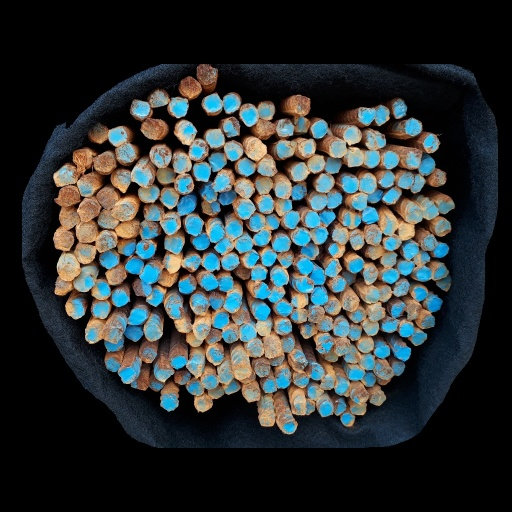dipstick: (53, 164, 77, 186), (55, 185, 79, 206), (201, 92, 222, 115), (131, 166, 154, 187), (179, 76, 201, 97), (97, 188, 118, 210), (78, 200, 99, 222), (141, 119, 164, 139), (150, 145, 170, 168), (76, 221, 96, 244), (245, 139, 266, 160), (96, 231, 117, 252), (111, 171, 131, 193), (53, 229, 73, 251), (56, 261, 79, 280), (197, 64, 217, 85), (94, 153, 115, 173), (291, 94, 311, 115), (59, 207, 78, 229), (74, 244, 96, 263), (113, 202, 136, 220), (177, 122, 196, 143), (177, 194, 196, 215), (190, 139, 208, 161), (222, 92, 240, 114), (240, 103, 257, 126), (169, 97, 188, 117), (214, 173, 234, 192), (234, 179, 254, 198), (276, 140, 296, 159), (184, 215, 203, 235), (357, 106, 376, 125), (192, 162, 210, 182), (236, 158, 256, 176), (343, 125, 361, 145), (116, 221, 138, 237), (104, 268, 126, 284), (73, 148, 92, 166), (276, 118, 294, 137), (224, 141, 243, 159), (255, 176, 273, 195), (298, 139, 316, 158), (164, 236, 183, 254), (65, 301, 84, 319), (99, 250, 118, 268), (404, 204, 422, 223), (130, 99, 150, 116), (310, 119, 327, 139), (161, 188, 178, 208), (139, 221, 159, 238), (359, 173, 376, 193), (256, 120, 274, 138), (173, 154, 191, 172), (307, 155, 325, 173), (316, 174, 334, 192), (237, 201, 255, 219), (92, 282, 110, 300), (91, 301, 109, 319), (150, 90, 169, 107), (90, 123, 107, 142), (115, 144, 134, 161), (207, 128, 224, 147), (274, 180, 291, 199), (347, 148, 364, 167), (366, 133, 385, 150), (176, 175, 193, 194), (99, 211, 118, 228), (144, 204, 163, 221), (161, 217, 180, 234), (85, 324, 102, 343), (124, 325, 143, 342), (221, 254, 240, 271), (224, 117, 240, 137), (383, 149, 399, 169), (78, 177, 94, 197), (136, 242, 156, 258), (138, 187, 159, 202), (376, 104, 390, 126), (109, 127, 127, 144), (257, 102, 274, 120), (363, 150, 380, 168), (141, 266, 158, 284), (202, 254, 220, 271), (258, 196, 275, 214), (383, 186, 400, 204), (341, 175, 359, 192), (292, 229, 310, 246), (325, 259, 343, 276), (209, 152, 225, 171), (291, 162, 307, 181), (74, 275, 93, 291), (144, 325, 163, 341), (127, 309, 146, 325), (182, 255, 201, 271), (330, 139, 347, 156), (163, 255, 180, 272), (118, 238, 135, 255), (311, 228, 328, 245), (344, 212, 361, 229), (402, 243, 419, 260), (112, 289, 128, 307), (125, 258, 143, 274), (273, 236, 291, 252), (276, 251, 294, 267), (292, 181, 307, 200), (209, 223, 224, 242), (103, 326, 122, 341), (190, 300, 209, 315), (424, 134, 439, 153), (405, 149, 420, 168), (276, 369, 290, 389), (325, 157, 342, 173), (157, 168, 174, 184), (226, 221, 242, 238), (254, 229, 271, 245), (140, 347, 157, 363), (193, 323, 209, 340), (212, 313, 229, 329), (254, 282, 270, 299), (405, 118, 421, 135), (362, 207, 378, 224), (332, 228, 348, 245), (297, 258, 313, 275), (411, 285, 427, 302), (308, 363, 324, 380), (215, 239, 233, 254), (54, 280, 72, 295), (178, 278, 196, 293), (200, 275, 218, 290), (239, 326, 257, 341), (276, 198, 291, 216), (301, 244, 319, 259), (258, 161, 277, 175), (393, 99, 407, 118), (294, 116, 310, 132), (250, 214, 266, 230), (243, 251, 259, 267), (260, 250, 276, 266), (243, 386, 259, 402), (430, 170, 446, 186), (399, 172, 415, 188), (379, 170, 395, 186), (320, 211, 336, 227), (416, 266, 432, 282), (393, 281, 409, 297), (192, 235, 209, 250), (118, 368, 135, 383), (134, 281, 151, 296), (209, 293, 224, 310), (187, 361, 202, 378), (187, 380, 204, 395), (201, 374, 218, 389), (207, 329, 222, 346), (420, 158, 435, 175), (352, 193, 367, 210), (421, 234, 436, 251), (349, 233, 364, 250), (366, 228, 381, 245), (328, 243, 345, 258), (382, 269, 399, 284), (406, 303, 421, 320), (382, 318, 399, 333), (334, 378, 349, 395), (174, 319, 192, 333), (160, 397, 178, 411), (263, 344, 281, 358), (202, 186, 217, 202), (147, 290, 162, 306), (174, 369, 190, 384), (207, 350, 223, 365), (269, 287, 285, 302), (423, 204, 439, 219), (438, 198, 454, 213), (435, 220, 451, 235), (327, 192, 342, 208), (310, 194, 326, 209), (398, 223, 413, 239), (432, 264, 448, 279), (381, 252, 397, 267), (343, 295, 358, 311), (370, 305, 385, 321), (363, 320, 379, 335), (292, 356, 307, 372), (316, 339, 333, 353), (202, 202, 220, 215), (194, 398, 212, 411), (232, 312, 250, 325), (246, 343, 264, 356), (364, 267, 377, 285), (104, 357, 119, 372), (168, 304, 183, 319), (224, 297, 239, 312), (349, 258, 364, 273), (308, 307, 323, 322), (364, 288, 379, 303), (334, 322, 349, 337), (317, 317, 332, 332), (219, 276, 233, 292), (265, 214, 279, 230), (170, 354, 186, 368), (222, 329, 238, 343), (255, 305, 269, 321), (275, 320, 291, 334), (285, 212, 299, 228), (306, 211, 320, 227), (382, 219, 396, 235), (367, 245, 383, 259), (297, 278, 313, 292), (300, 324, 316, 338), (374, 344, 390, 358), (282, 337, 296, 353), (235, 239, 252, 252), (233, 367, 250, 380), (384, 237, 401, 250), (275, 303, 292, 316), (156, 369, 174, 381), (219, 193, 237, 205), (413, 174, 425, 192), (160, 272, 175, 286), (255, 363, 270, 377), (262, 379, 277, 393), (256, 321, 271, 335), (293, 308, 307, 323), (391, 303, 405, 318), (360, 356, 375, 370), (104, 340, 123, 351), (251, 268, 267, 281), (367, 190, 383, 203), (398, 261, 414, 274), (292, 294, 308, 307), (311, 292, 327, 305), (325, 301, 341, 314), (379, 286, 392, 302), (335, 342, 351, 355), (344, 350, 360, 363), (352, 390, 368, 403), (370, 393, 386, 406), (349, 310, 366, 322), (131, 379, 149, 390), (223, 383, 241, 394), (149, 377, 163, 391), (294, 373, 308, 387), (415, 252, 430, 265), (332, 277, 345, 292), (427, 298, 442, 311), (358, 339, 373, 352), (396, 347, 411, 360), (392, 361, 405, 376), (186, 334, 202, 346), (259, 414, 275, 426), (307, 387, 323, 399), (219, 370, 233, 383), (236, 266, 250, 279), (435, 243, 448, 257), (399, 323, 413, 336), (321, 376, 335, 389), (320, 402, 333, 416), (292, 401, 306, 414), (312, 269, 324, 284), (349, 325, 361, 340), (378, 367, 393, 379), (349, 368, 364, 380), (351, 403, 366, 415), (208, 387, 224, 398), (412, 333, 426, 345), (334, 401, 346, 415), (341, 414, 355, 426), (283, 421, 297, 433), (344, 271, 356, 284), (422, 315, 434, 328), (306, 399, 315, 415), (364, 373, 375, 386), (270, 355, 284, 365), (325, 353, 338, 362), (378, 378, 390, 385)
